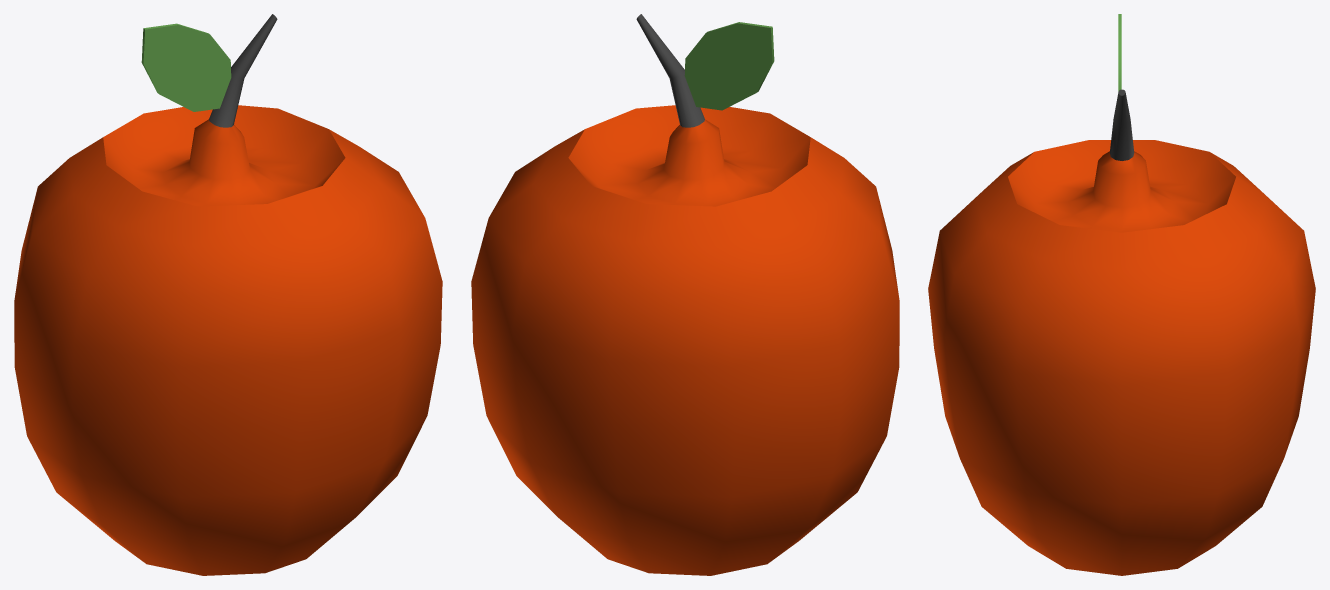
Rendered from Apple_2.fbx.
3 views of the same model, side by side, from view 1: azimuth 30°, elevation 25°; view 2: azimuth 150°, elevation 25°; view 3: azimuth 270°, elevation 25° (orthographic). The views are drawn at different scales.
Parts seen in each view (by area): view 1: Apple_2; view 2: Apple_2; view 3: Apple_2.
Part boxes in pixels (x1,y1,x2,y2): Apple_2: (14,14,442,575); Apple_2: (471,14,899,575); Apple_2: (928,14,1315,575).
Size of the model in its own units: 0.0948 by 0.127 by 0.0927.
